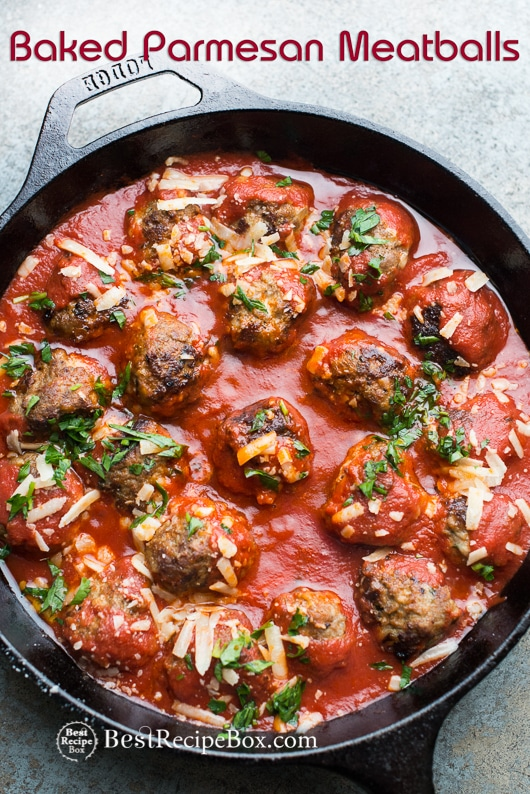meatballs: (67, 582, 165, 668), (314, 332, 410, 415), (405, 276, 493, 365), (219, 264, 307, 353), (341, 444, 420, 541), (156, 503, 241, 593), (174, 613, 262, 697), (425, 386, 509, 474), (213, 173, 303, 254), (363, 559, 446, 643), (23, 351, 108, 429), (228, 401, 304, 488), (1, 449, 76, 537), (337, 203, 409, 294), (270, 590, 352, 669), (94, 422, 173, 503), (126, 316, 203, 399), (440, 484, 512, 567), (121, 201, 207, 269), (49, 255, 114, 335)
